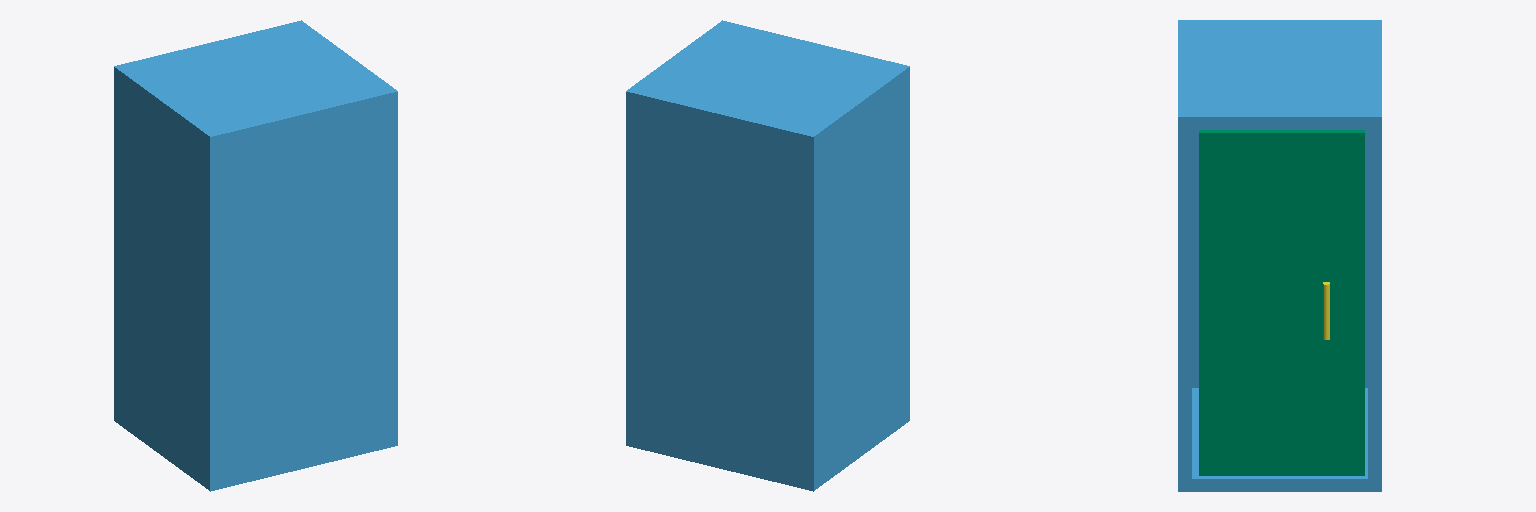
The robot description file, URDF, robot "my_cabinet":
<?xml version="1.0" ?>
<robot name="my_cabinet">
	<link name="world"/>
	<joint name="virtual_joint" type="fixed">
		<parent link="world"/>
		<child link="base_cabinet_link"/>
		<origin xyz="0.0 0.0 0.0" rpy="0.0 0.0 0.0"/>
	</joint>
	<link name="base_cabinet_link">
		<visual>
			<origin xyz="0.0 -0.0025 -0.26139662588398827" rpy="0.0 0.0 0.0"/>
			<geometry>
				<box size="0.3 0.26773411324969204 0.018"/>
			</geometry>
		</visual>
		<collision name="base_cabinet_link_collision_0">
			<origin xyz="0.0 -0.0025 -0.26139662588398827" rpy="0.0 0.0 0.0"/>
			<geometry>
				<box size="0.3 0.26773411324969204 0.018"/>
			</geometry>
		</collision>
		<visual>
			<origin xyz="0.0 0.12236705662484602 0.0" rpy="0.0 0.0 0.0"/>
			<geometry>
				<box size="0.3 0.018 0.5407932517679765"/>
			</geometry>
		</visual>
		<collision name="base_cabinet_link_collision_1">
			<origin xyz="0.0 0.12236705662484602 0.0" rpy="0.0 0.0 0.0"/>
			<geometry>
				<box size="0.3 0.018 0.5407932517679765"/>
			</geometry>
		</collision>
		<visual>
			<origin xyz="0.0 -0.12736705662484601 0.0" rpy="0.0 0.0 0.0"/>
			<geometry>
				<box size="0.3 0.018 0.5407932517679765"/>
			</geometry>
		</visual>
		<collision name="base_cabinet_link_collision_2">
			<origin xyz="0.0 -0.12736705662484601 0.0" rpy="0.0 0.0 0.0"/>
			<geometry>
				<box size="0.3 0.018 0.5407932517679765"/>
			</geometry>
		</collision>
		<visual>
			<origin xyz="0.0 -0.0025 0.26139662588398827" rpy="0.0 0.0 0.0"/>
			<geometry>
				<box size="0.3 0.26773411324969204 0.018"/>
			</geometry>
		</visual>
		<collision name="base_cabinet_link_collision_3">
			<origin xyz="0.0 -0.0025 0.26139662588398827" rpy="0.0 0.0 0.0"/>
			<geometry>
				<box size="0.3 0.26773411324969204 0.018"/>
			</geometry>
		</collision>
		<visual>
			<origin xyz="-0.141 -0.0025 0.0" rpy="0.0 0.0 0.0"/>
			<geometry>
				<box size="0.018 0.26773411324969204 0.5407932517679765"/>
			</geometry>
		</visual>
		<collision name="base_cabinet_link_collision_4">
			<origin xyz="-0.141 -0.0025 0.0" rpy="0.0 0.0 0.0"/>
			<geometry>
				<box size="0.018 0.26773411324969204 0.5407932517679765"/>
			</geometry>
		</collision>
		<inertial>
			<mass value="0.200000"/>
			<inertia ixx="0.006069" ixy="0.0" ixz="0.0" iyy="0.006374" iyz="0.0" izz="0.002695"/>
		</inertial>
	</link>
	<link name="door_link">
		<visual>
			<origin xyz="0.0 -0.10836705662484603 0.0"/>
			<geometry>
				<box size="0.018 0.21673411324969205 0.49479325176797656"/>
			</geometry>
		</visual>
		<collision name="door_link_collision">
			<origin xyz="0.0 -0.10836705662484603 0.0"/>
			<geometry>
				<box size="0.018 0.21673411324969205 0.49479325176797656"/>
			</geometry>
		</collision>
		<inertial>
			<mass value="0.200000"/>
			<inertia ixx="0.004863" ixy="0.0" ixz="0.0" iyy="0.004086" iyz="0.0" izz="0.000788"/>
		</inertial>
	</link>
	<joint name="door_joint" type="revolute">
		<origin xyz="0.141 -0.10836705662484603 0.0" rpy="0.000000 -0.000000 3.141593"/>
		<axis xyz="0 0 1"/>
		<parent link="base_cabinet_link"/>
		<child link="door_link"/>
		<limit effort="50" lower="-1.658062789394613" upper="0" velocity="10"/>
		<dynamics friction="3.5" damping="3.5"/>
	</joint>
	<link name="handle_link">
		<visual>
			<origin xyz="0.0 0.0 0.0" rpy="0.0 0.0 0.0"/>
			<geometry>
				<cylinder length="0.08" radius="0.005"/>
			</geometry>
		</visual>
		<collision name="handle_link_collision_0">
			<origin xyz="0.0 0.0 0.0" rpy="0.0 0.0 0.0"/>
			<geometry>
				<cylinder length="0.08" radius="0.005"/>
			</geometry>
		</collision>
		<visual>
			<origin xyz="-0.01 0.0 0.02" rpy="0.0 1.5707963267948966 0.0"/>
			<geometry>
				<cylinder length="0.02" radius="0.003"/>
			</geometry>
		</visual>
		<collision name="handle_link_collision_1">
			<origin xyz="-0.01 0.0 0.02" rpy="0.0 1.5707963267948966 0.0"/>
			<geometry>
				<cylinder length="0.01" radius="0.003"/>
			</geometry>
		</collision>
		<visual>
			<origin xyz="-0.01 0.0 -0.02" rpy="0.0 1.5707963267948966 0.0"/>
			<geometry>
				<cylinder length="0.02" radius="0.003"/>
			</geometry>
		</visual>
		<collision name="handle_link_collision_2">
			<origin xyz="-0.01 0.0 -0.02" rpy="0.0 1.5707963267948966 0.0"/>
			<geometry>
				<cylinder length="0.02" radius="0.003"/>
			</geometry>
		</collision>
		<inertial>
			<mass value="0.050000"/>
			<inertia ixx="0.000027" ixy="0.0" ixz="0.0" iyy="0.000029" iyz="0.0" izz="0.000003"/>
		</inertial>
	</link>
	<joint name="handle_joint" type="fixed">
		<origin xyz="-0.028999999999999998 -0.16673411324969206 0.0" rpy="0.000000 -0.000000 3.141593"/>
		<parent link="door_link"/>
		<child link="handle_link"/>
	</joint>
	<gazebo reference="base_cabinet_link">
		<sensor name="main_sensor" type="contact">
			<selfCollide>true</selfCollide>
			<alwaysOn>true</alwaysOn>
			<updateRate>5.0</updateRate>
			<material>Gazebo/Red</material>
			<contact>
				<collision>base_cabinet_link_collision_0_collision</collision>
				<collision>base_cabinet_link_collision_1_collision</collision>
				<collision>base_cabinet_link_collision_2_collision</collision>
				<collision>base_cabinet_link_collision_3_collision</collision>
				<collision>base_cabinet_link_collision_4_collision</collision>
			</contact>
			<plugin name="gazebo_ros_bumper_controller" filename="libgazebo_ros_bumper.so">
				<bumperTopicName>/contact</bumperTopicName>
				<frameName>world</frameName>
			</plugin>
		</sensor>
	</gazebo>
	<gazebo reference="door_link">
		<sensor name="main_sensor" type="contact">
			<selfCollide>true</selfCollide>
			<alwaysOn>true</alwaysOn>
			<updateRate>5.0</updateRate>
			<material>Gazebo/Red</material>
			<contact>
				<collision>door_link_collision_collision</collision>
			</contact>
			<plugin name="gazebo_ros_bumper_controller" filename="libgazebo_ros_bumper.so">
				<bumperTopicName>/contact_door</bumperTopicName>
				<frameName>contact_door</frameName>
			</plugin>
		</sensor>
	</gazebo>
	<gazebo reference="door_link">
		<mu>3.0</mu>
		<mu2>3.0</mu2>
		<kp>10000000</kp>
		<kd>100</kd>
	</gazebo>
</robot>

--- Facts derived from the render (not from the file) ---
Views: 3 orthographic renders of the robot side by side, from view 1: azimuth 30°, elevation 25°; view 2: azimuth 150°, elevation 25°; view 3: azimuth 270°, elevation 25°.
Model my_cabinet with 4 links and 3 joints (1 revolute, 2 fixed), rooted at world, posed all joints at 0.
Links seen in each view (by area): view 1: base_cabinet_link; view 2: base_cabinet_link; view 3: door_link, base_cabinet_link.
Link boxes in pixels (x1,y1,x2,y2): base_cabinet_link: [114, 20, 397, 491]; base_cabinet_link: [626, 20, 909, 491]; door_link: [1199, 130, 1364, 475]; base_cabinet_link: [1178, 20, 1381, 491].
Size in the robot's own frame: 0.325 by 0.2677 by 0.5408 metres.
Geometry: primitives only (box / cylinder / sphere), no mesh files.
